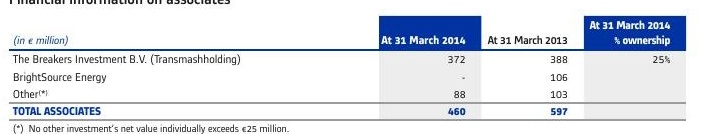table: (0, 0, 702, 134)
